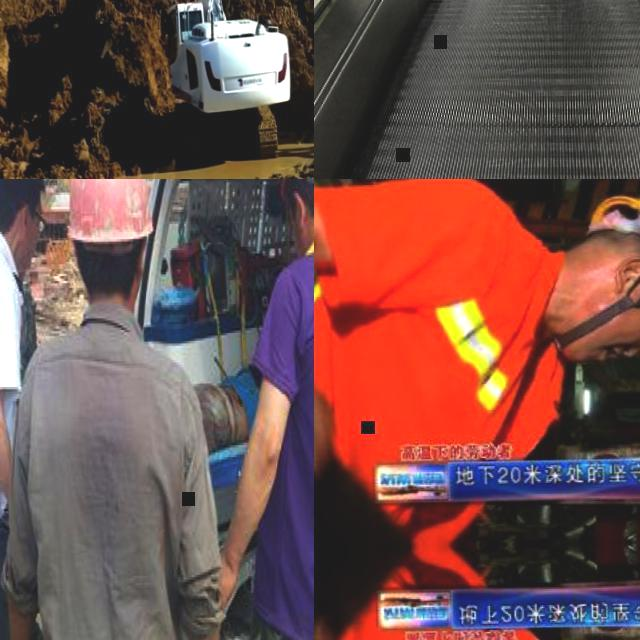helmet: (0, 179, 222, 640), (205, 179, 314, 640), (589, 189, 640, 368), (63, 179, 157, 244)
machinery: (140, 0, 296, 160)
no_helmet: (0, 179, 48, 204)
no_mask: (560, 268, 628, 366), (14, 236, 38, 270), (292, 222, 306, 255)
no_vest: (25, 331, 179, 640), (253, 251, 314, 640), (20, 291, 38, 360)
person: (314, 179, 640, 508), (0, 179, 53, 640), (314, 549, 582, 640), (0, 207, 38, 369)
vehicle: (0, 179, 314, 640)
vest: (314, 257, 556, 506), (322, 594, 571, 640)
